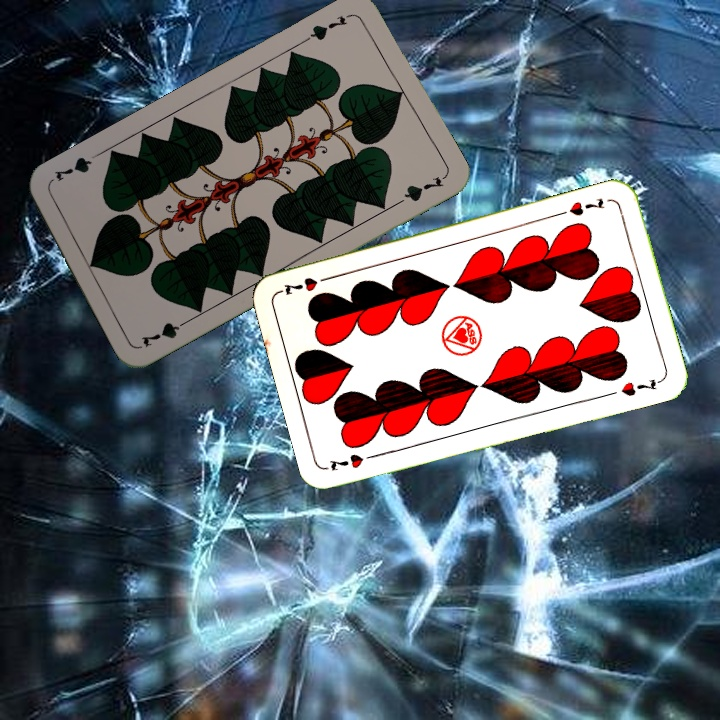G7: (136, 314, 193, 350), (301, 9, 355, 44)
H7: (325, 449, 382, 474), (555, 194, 607, 219)
